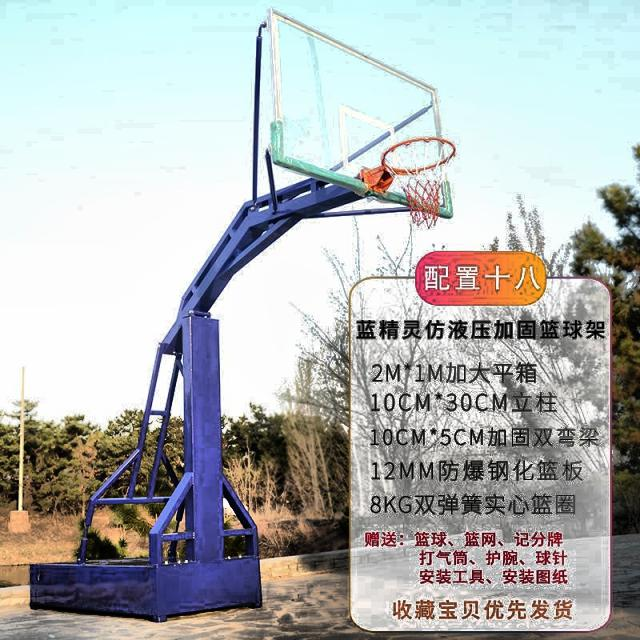rim: (380, 135, 458, 229)
